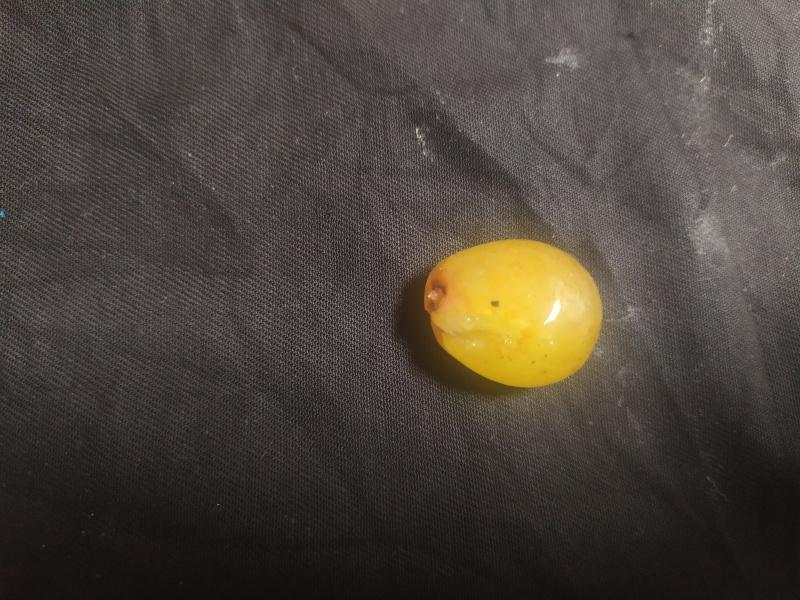Grape Overripe: (422, 239, 606, 391)
